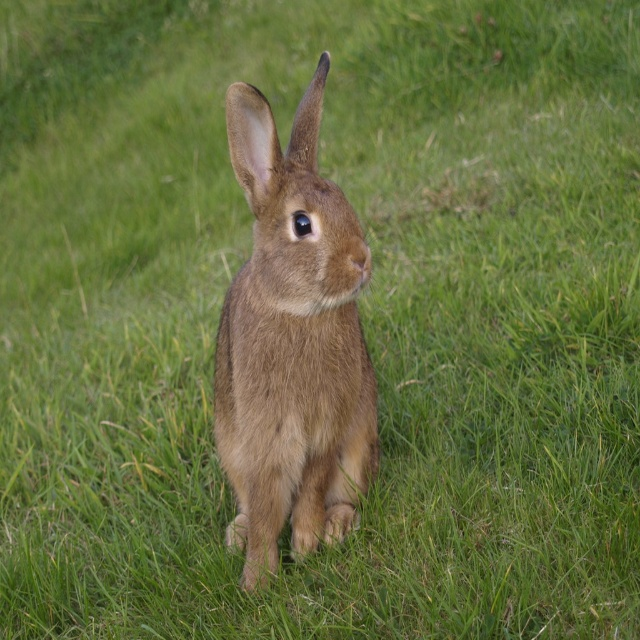Rabbit: (207, 50, 383, 596)
